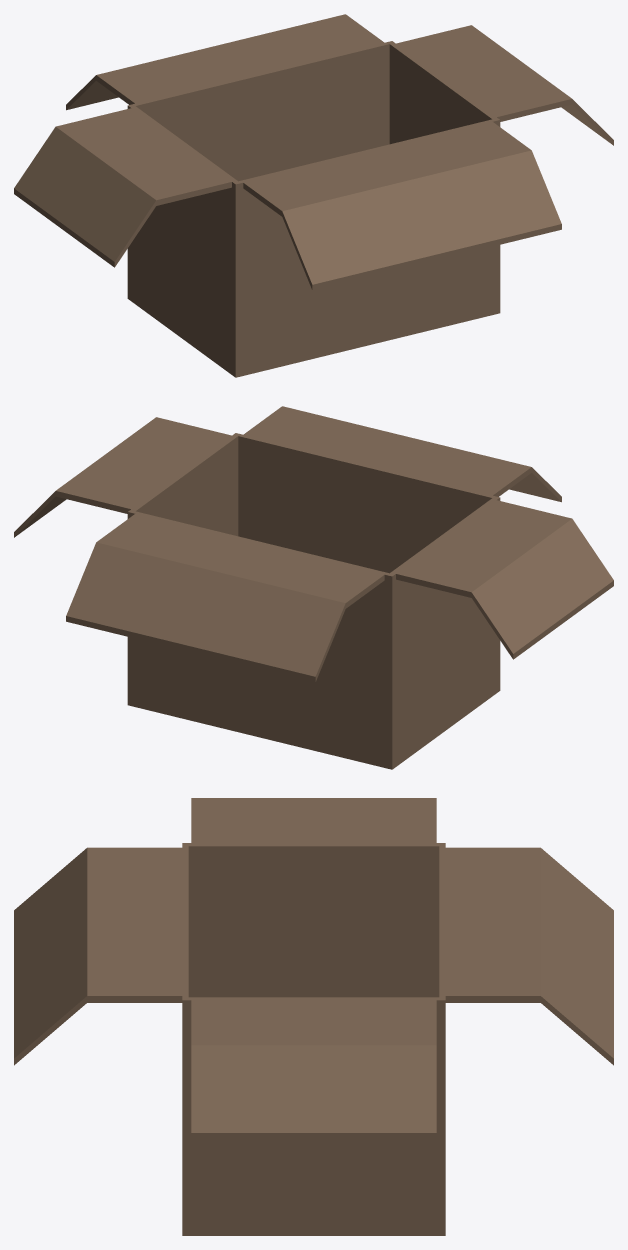
The model's file is pahvilaatikko1.fbx.
3 renders of one model, top to bottom at view 1: azimuth 30°, elevation 25°; view 2: azimuth 150°, elevation 25°; view 3: azimuth 270°, elevation 25°, orthographic. The views are drawn at different scales.
Visible parts, largest first — view 1: pahvilaatikko1; view 2: pahvilaatikko1; view 3: pahvilaatikko1.
Part boxes in pixels (left/top/right/bottom): pahvilaatikko1: left=14, top=14, right=613, bottom=377; pahvilaatikko1: left=14, top=406, right=613, bottom=769; pahvilaatikko1: left=14, top=798, right=613, bottom=1235.
Size of the model in its own units: 161 by 59.65 by 138.
